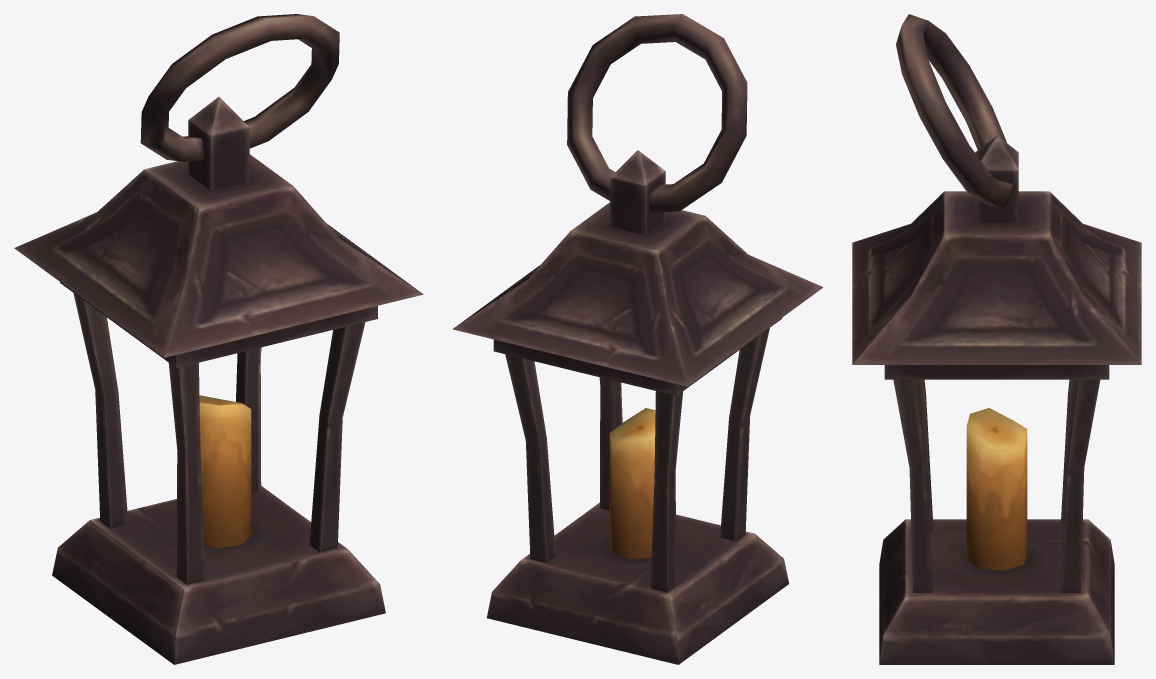
The model's file is Lantern_01 (3).fbx.
3 views of the same model, side by side, from view 1: azimuth 30°, elevation 25°; view 2: azimuth 150°, elevation 25°; view 3: azimuth 270°, elevation 25° (orthographic). The views are drawn at different scales.
Visible parts, largest first — view 1: Lantern_01 (3); view 2: Lantern_01 (3); view 3: Lantern_01 (3).
Part boxes in pixels (<box>): Lantern_01 (3): <box>14,14,423,664</box>; Lantern_01 (3): <box>453,14,823,664</box>; Lantern_01 (3): <box>852,14,1141,664</box>.
Size of the model in its own units: 3.2 by 7.19 by 3.2.
